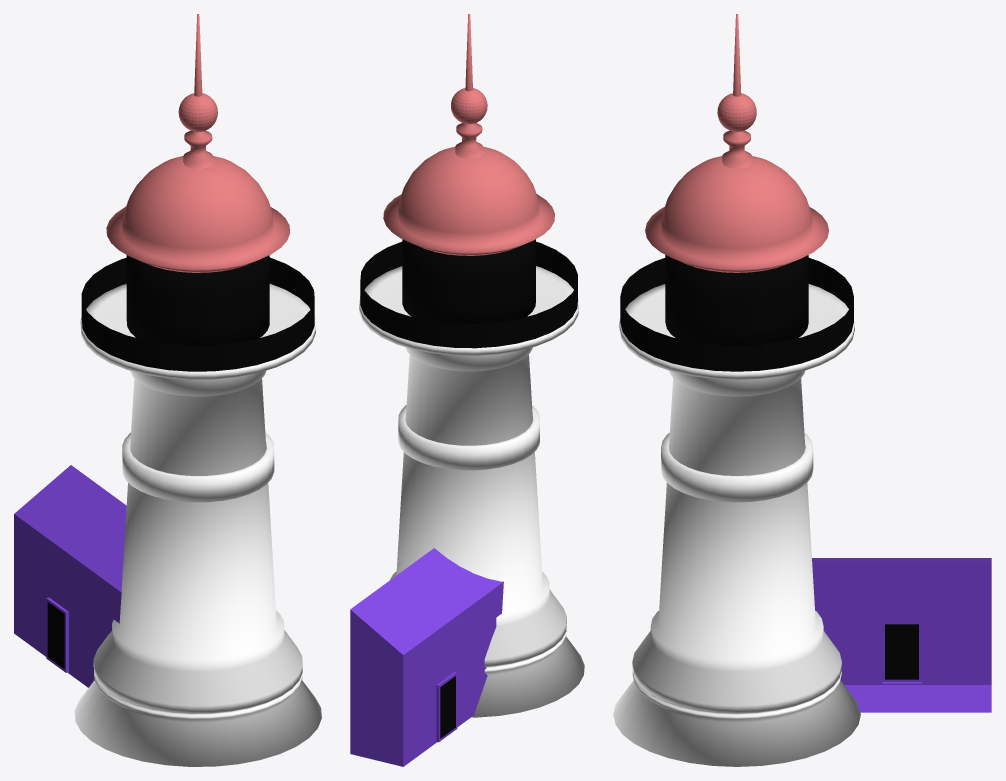
The model's file is lightouse.glb.
The picture shows the model from 3 angles, left to right: view 1: azimuth 30°, elevation 25°; view 2: azimuth 150°, elevation 25°; view 3: azimuth 270°, elevation 25°; orthographic projection. The views are drawn at different scales.
Parts seen in each view (by area): view 1: Circle, Circle.002, Cube, Sphere; view 2: Circle, Cube, Circle.002, Sphere; view 3: Circle, Cube, Circle.002, Sphere.
Boxes of the visible parts, box(x1,y1,x2,y2) form: Circle: box(74, 283, 321, 766); Circle.002: box(81, 255, 314, 371); Cube: box(14, 465, 126, 687); Sphere: box(106, 14, 289, 272); Circle: box(359, 266, 584, 717); Cube: box(350, 548, 503, 766); Circle.002: box(360, 239, 577, 348); Sphere: box(383, 14, 554, 255); Circle: box(613, 284, 860, 766); Cube: box(812, 558, 991, 712); Circle.002: box(620, 255, 853, 371); Sphere: box(645, 14, 828, 272).
Bounding box in the file's own units: 12.57 × 39.19 × 19.2.
